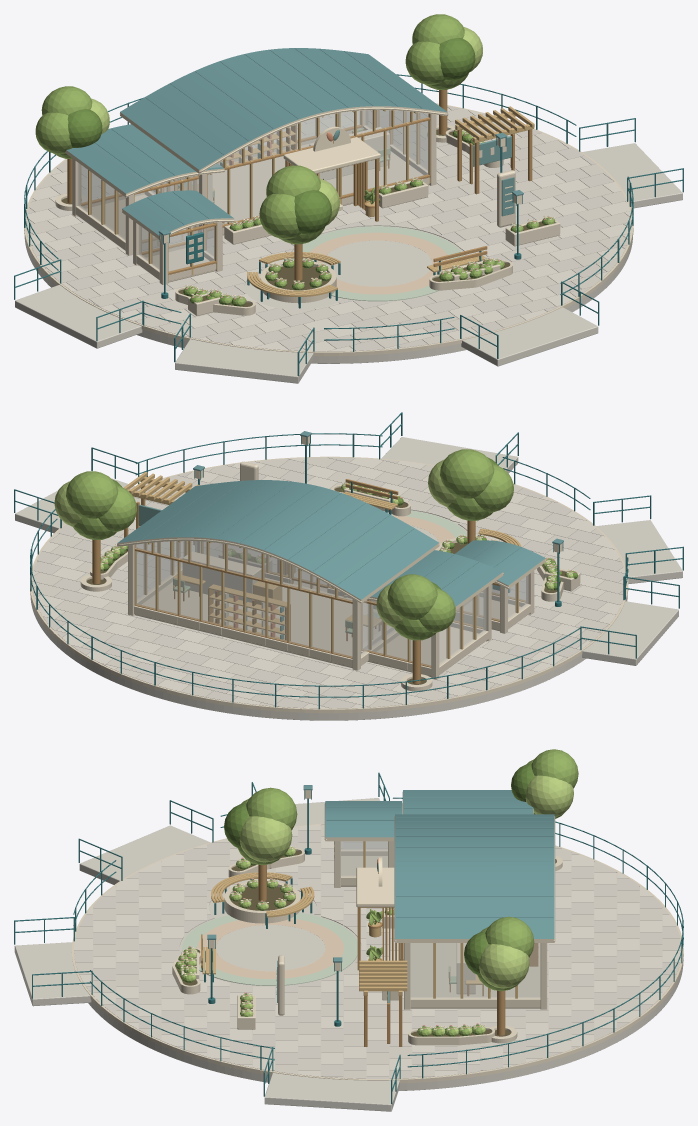
Rendered from digital.glb.
The picture shows the model from 3 angles, top to bottom: view 1: azimuth 30°, elevation 25°; view 2: azimuth 150°, elevation 25°; view 3: azimuth 270°, elevation 25°; orthographic projection. The views are drawn at different scales.
Visible parts, largest first — view 1: Site_Components__WarmLimestonePaver0, CivicServiceHall__roof, Site_Components__WarmLimestonePaver2, Site_Components__WarmLimestonePaver1, Site_Components__stone, Landscape_Components__leaf, CivicServiceHall__Clear warm architectural glazing, Landscape_Components__cream, Site_Components__rail, Landscape_Components__leafDark, WestServiceWing__roof, CivicServiceHall__floor (+33 smaller); view 2: CivicServiceHall__roof, Site_Components__WarmLimestonePaver0, Site_Components__WarmLimestonePaver2, Site_Components__WarmLimestonePaver1, CivicServiceHall__Clear warm architectural glazing, Site_Components__stone, Landscape_Components__leaf, Site_Components__rail, CivicServiceHall__floor, CivicServiceHall__cream, Site_Components__cream, CivicServiceHall__woodLight (+22 smaller); view 3: Site_Components__WarmLimestonePaver2, Site_Components__WarmLimestonePaver1, Site_Components__WarmLimestonePaver0, Site_Components__stone, CivicServiceHall__roof, Landscape_Components__leaf, Landscape_Components__leafLight, Site_Components__rail, CivicServiceHall__Clear warm architectural glazing, Landscape_Components__cream, Landscape_Components__stone, Site_Components__cream (+21 smaller).
Boxes of the visible parts, x1=… form: Site_Components__WarmLimestonePaver0: x1=26, y1=108, x2=631, y2=351; CivicServiceHall__roof: x1=120, y1=48, x2=447, y2=169; Site_Components__WarmLimestonePaver2: x1=26, y1=106, x2=631, y2=350; Site_Components__WarmLimestonePaver1: x1=27, y1=104, x2=630, y2=351; Site_Components__stone: x1=15, y1=143, x2=682, y2=383; Landscape_Components__leaf: x1=35, y1=14, x2=554, y2=306; CivicServiceHall__Clear warm architectural glazing: x1=151, y1=110, x2=428, y2=224; Landscape_Components__cream: x1=55, y1=125, x2=560, y2=315; Site_Components__rail: x1=14, y1=74, x2=683, y2=376; Landscape_Components__leafDark: x1=67, y1=38, x2=548, y2=305; WestServiceWing__roof: x1=67, y1=124, x2=223, y2=193; CivicServiceHall__floor: x1=164, y1=133, x2=423, y2=223; CivicServiceHall__roof: x1=118, y1=480, x2=438, y2=599; Site_Components__WarmLimestonePaver0: x1=32, y1=457, x2=623, y2=707; Site_Components__WarmLimestonePaver2: x1=33, y1=457, x2=624, y2=708; Site_Components__WarmLimestonePaver1: x1=32, y1=458, x2=625, y2=708; CivicServiceHall__Clear warm architectural glazing: x1=135, y1=541, x2=394, y2=657; Site_Components__stone: x1=15, y1=437, x2=682, y2=720; Landscape_Components__leaf: x1=66, y1=449, x2=575, y2=640; Site_Components__rail: x1=14, y1=412, x2=683, y2=709; CivicServiceHall__floor: x1=141, y1=577, x2=387, y2=656; CivicServiceHall__cream: x1=128, y1=541, x2=399, y2=670; Site_Components__cream: x1=30, y1=456, x2=628, y2=713; CivicServiceHall__woodLight: x1=134, y1=541, x2=383, y2=652; Site_Components__WarmLimestonePaver2: x1=74, y1=824, x2=680, y2=1078; Site_Components__WarmLimestonePaver1: x1=74, y1=824, x2=681, y2=1078; Site_Components__WarmLimestonePaver0: x1=75, y1=824, x2=681, y2=1078; Site_Components__stone: x1=14, y1=798, x2=683, y2=1111; CivicServiceHall__roof: x1=395, y1=814, x2=554, y2=938; Landscape_Components__leaf: x1=175, y1=749, x2=578, y2=1036; Landscape_Components__leafLight: x1=184, y1=775, x2=573, y2=1035; Site_Components__rail: x1=14, y1=772, x2=683, y2=1104; CivicServiceHall__Clear warm architectural glazing: x1=411, y1=943, x2=540, y2=997; Landscape_Components__cream: x1=172, y1=848, x2=562, y2=1045; Landscape_Components__stone: x1=216, y1=925, x2=325, y2=971; Site_Components__cream: x1=71, y1=823, x2=683, y2=1083.
Bounding box in the file's own units: 27.17 × 5.31 × 25.01.
